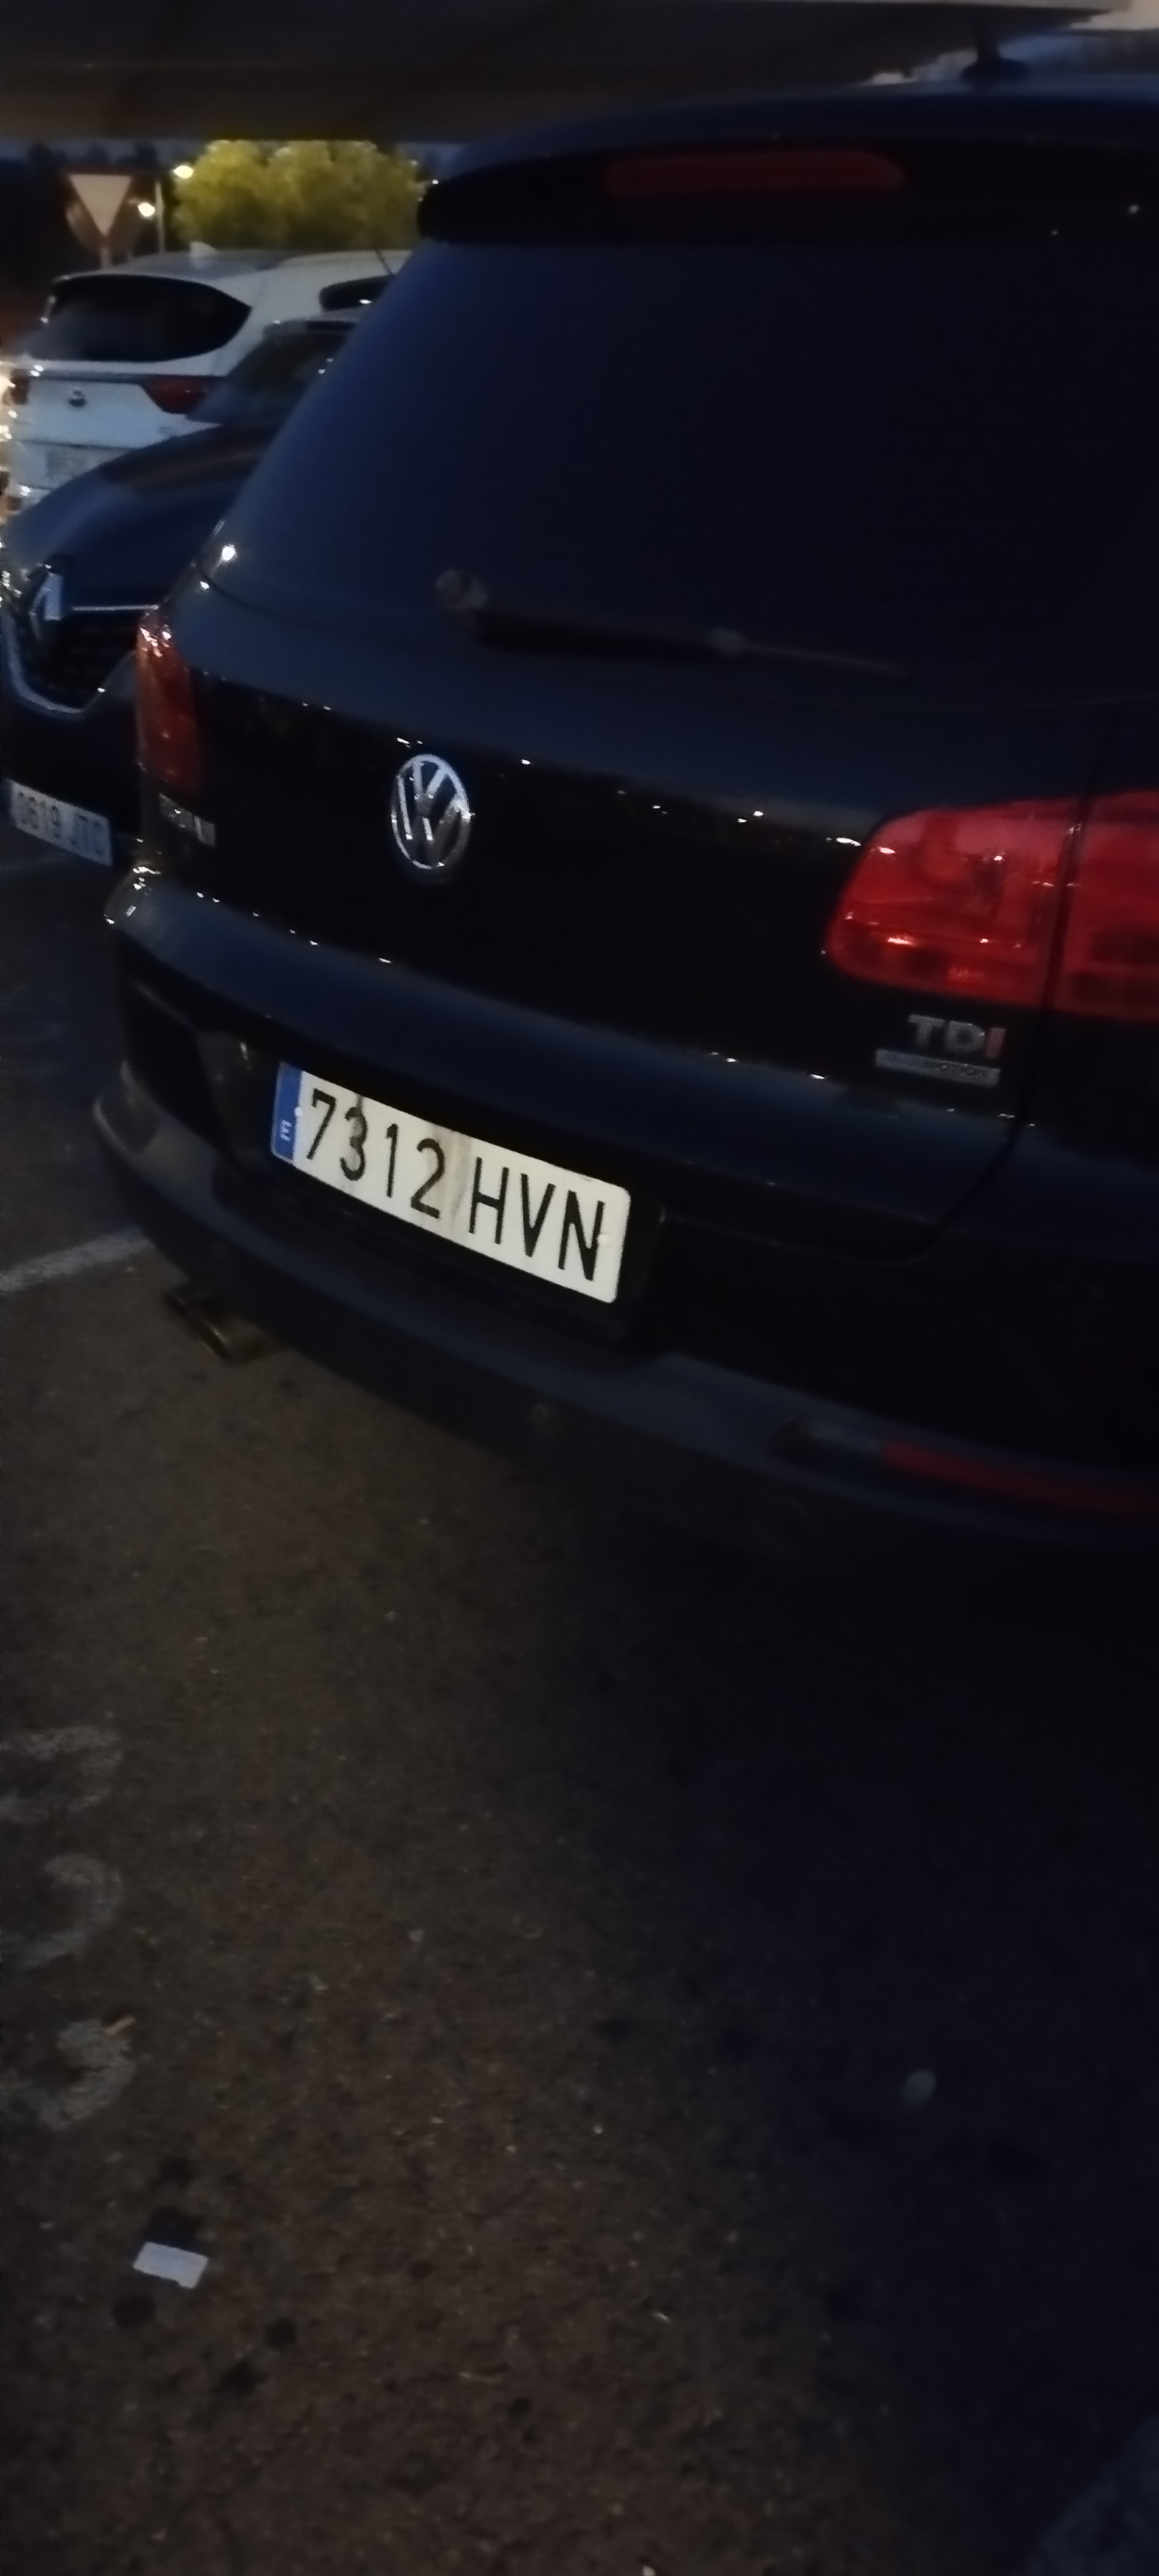Car: (81, 115, 1158, 1604)
Plate: (303, 1055, 669, 1171)
